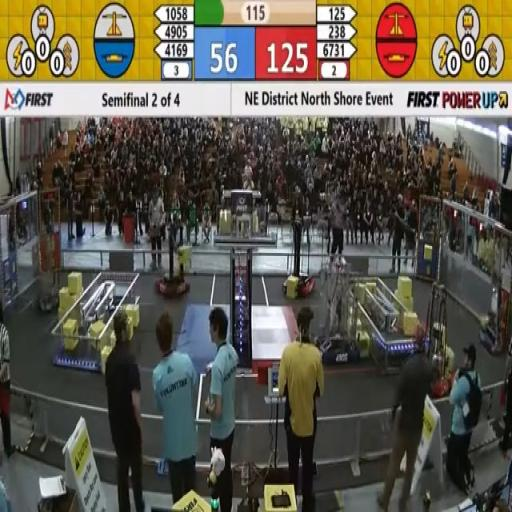robot: (415, 281, 458, 398), (315, 261, 361, 370), (156, 220, 194, 301), (281, 218, 317, 302), (30, 256, 60, 313)
